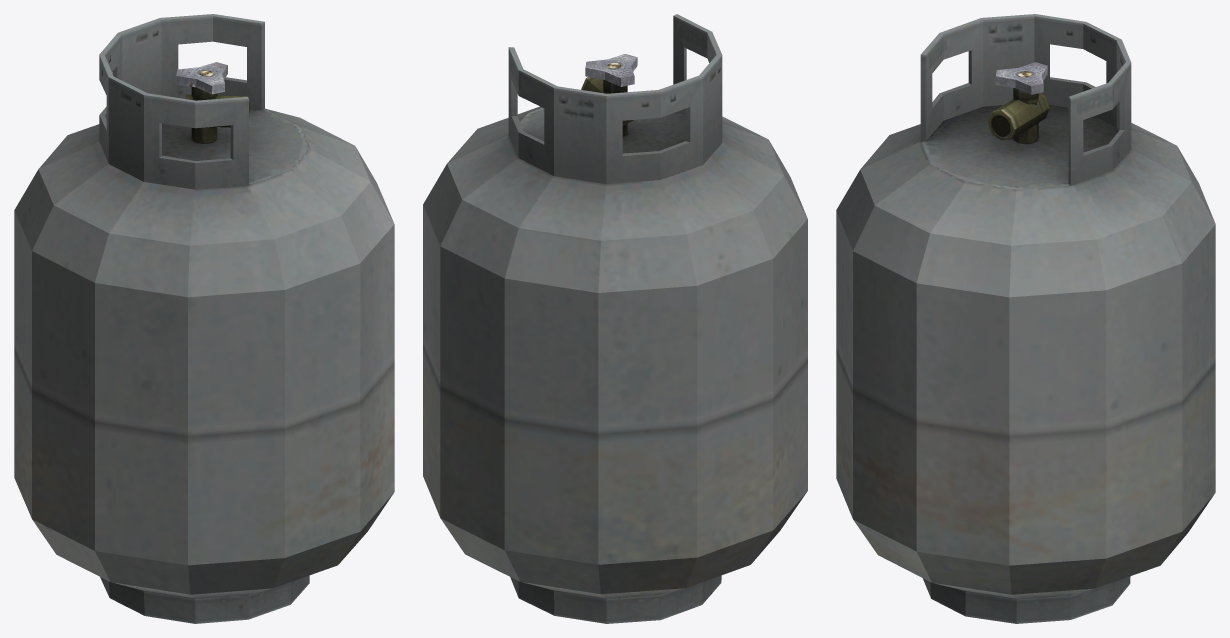
The model's file is Propane Tank.obj.
3 renders of one model, left to right at view 1: azimuth 30°, elevation 25°; view 2: azimuth 150°, elevation 25°; view 3: azimuth 270°, elevation 25°, orthographic.
Parts seen in each view (by area): view 1: Mesh_0395.rip_Mesh_03; view 2: Mesh_0395.rip_Mesh_03; view 3: Mesh_0395.rip_Mesh_03.
Part boxes in pixels (x1,y1,x2,y2): Mesh_0395.rip_Mesh_03: (14,14,394,623); Mesh_0395.rip_Mesh_03: (423,14,807,623); Mesh_0395.rip_Mesh_03: (836,14,1215,623).
Size of the model in its own units: 0.364 by 0.552 by 0.364.
